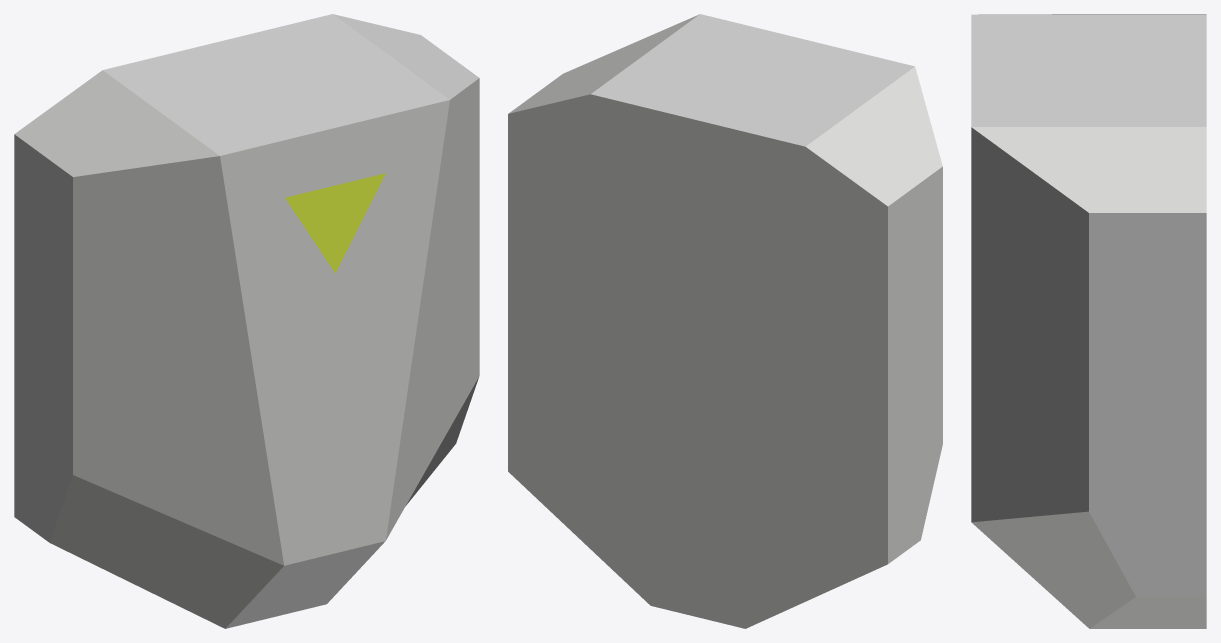
Rendered from props_wallbox.fbx.
The picture shows the model from 3 angles, left to right: view 1: azimuth 30°, elevation 25°; view 2: azimuth 150°, elevation 25°; view 3: azimuth 270°, elevation 25°; orthographic projection. The views are drawn at different scales.
Visible parts, largest first — view 1: props_wallbox; view 2: props_wallbox; view 3: props_wallbox.
Part boxes in pixels (<box>): props_wallbox: <box>14,14,479,628</box>; props_wallbox: <box>508,14,942,628</box>; props_wallbox: <box>971,14,1206,628</box>.
Size of the model in its own units: 24.62 by 30.77 by 12.31.
